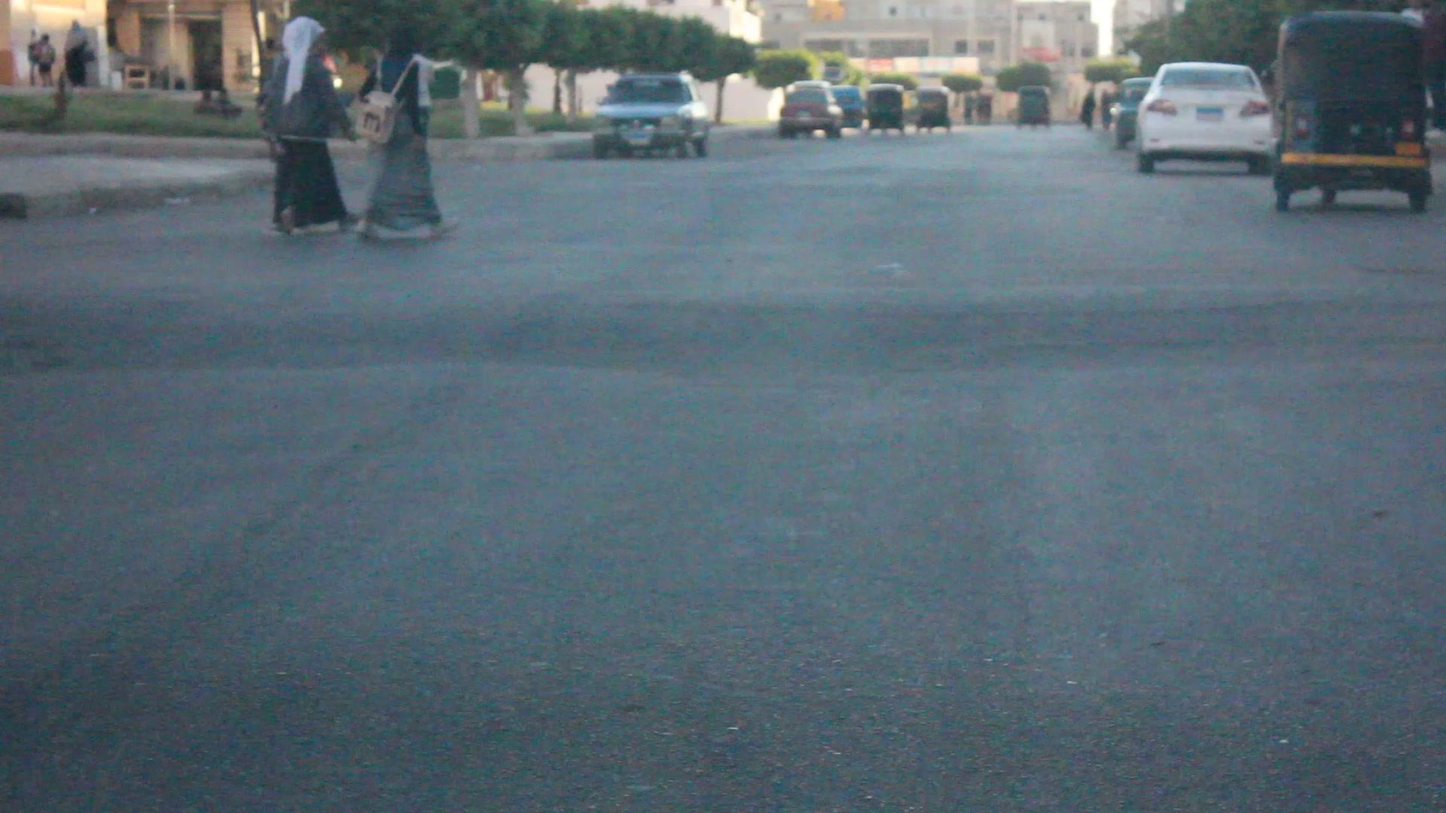Bump: (0, 265, 1446, 382)
